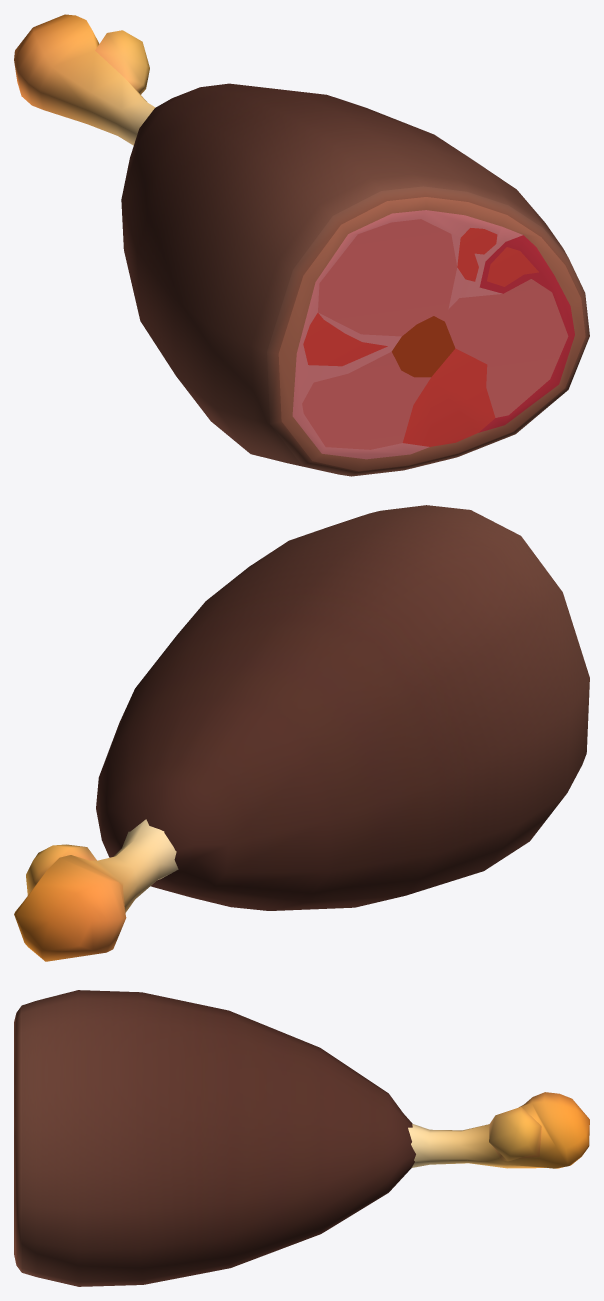
Rendered from lamb_001.fbx.
3 renders of one model, top to bottom at view 1: azimuth 30°, elevation 25°; view 2: azimuth 150°, elevation 25°; view 3: azimuth 270°, elevation 25°, orthographic. The views are drawn at different scales.
Parts seen in each view (by area): view 1: lamb_001; view 2: lamb_001; view 3: lamb_001.
Part boxes in pixels (<box>): lamb_001: <box>14,14,589,476</box>; lamb_001: <box>14,505,589,961</box>; lamb_001: <box>14,990,589,1286</box>.
Bounding box in the file's own units: 19.01 × 34.84 × 16.03.
